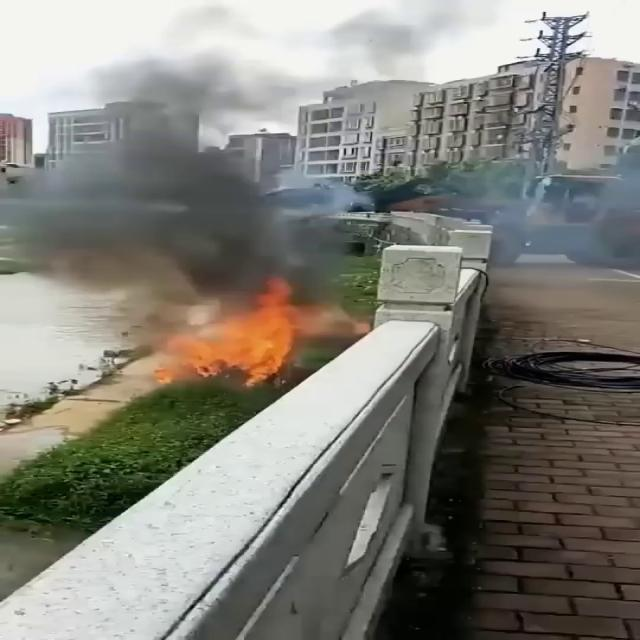Fire: (144, 286, 313, 388)
Smoke: (2, 7, 345, 314), (448, 134, 640, 352)
